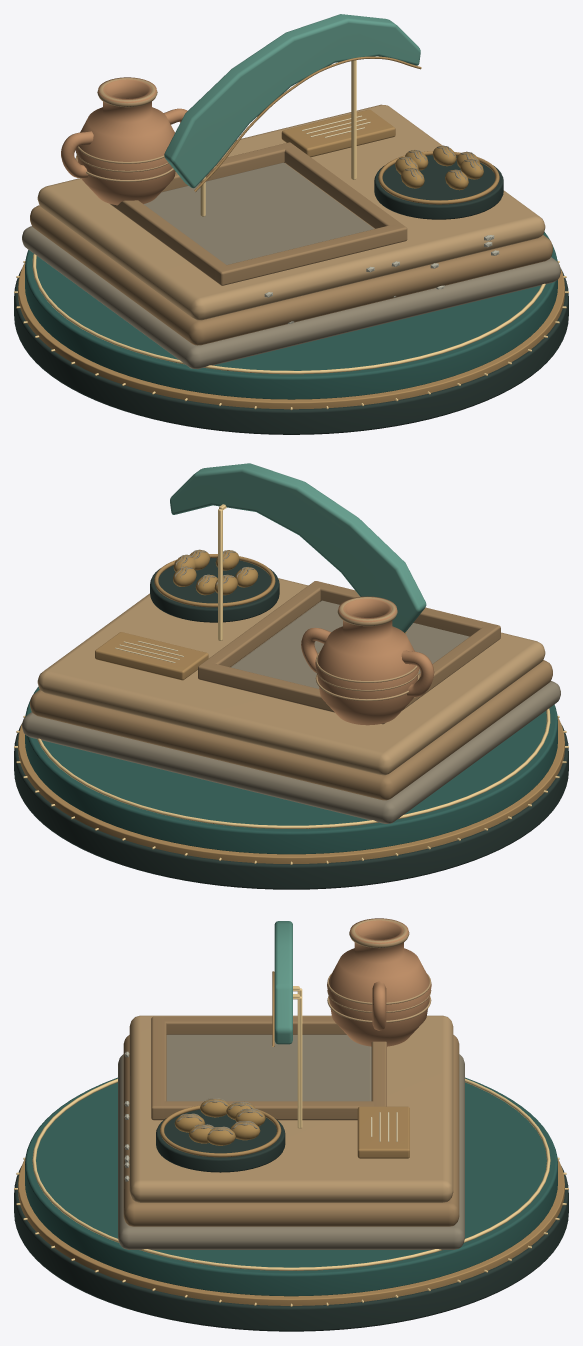
Rendered from taixi.glb.
3 renders of one model, top to bottom at view 1: azimuth 30°, elevation 25°; view 2: azimuth 150°, elevation 25°; view 3: azimuth 270°, elevation 25°, orthographic.
Parts seen in each view (by area): view 1: architecture__深墨玉 · polished jade.004, soil_upper, architecture__玄色石.004, artifact_blade__铜绿, soil_middle, soil_lower, soil_upper__灰土层, soil_upper__黄褐土, architecture__旧黄铜.004, artifact_pot__陶器, artifact_seeds__玄色石, architecture__暖金镶线.004 (+4 smaller); view 2: soil_upper, architecture__深墨玉 · polished jade.004, architecture__玄色石.004, soil_middle, artifact_blade__铜绿, soil_lower, artifact_pot__陶器, architecture__旧黄铜.004, soil_upper__黄褐土, soil_upper__灰土层, artifact_seeds__玄色石, architecture__暖金镶线.004 (+3 smaller); view 3: architecture__深墨玉 · polished jade.004, soil_upper, architecture__玄色石.004, soil_upper__灰土层, soil_lower, soil_middle, architecture__旧黄铜.004, artifact_pot__陶器, soil_upper__黄褐土, architecture__暖金镶线.004, artifact_seeds__玄色石, artifact_seeds__桃核 (+4 smaller).
Part boxes in pixels (box(x1,y1,x2,y2)): architecture__深墨玉 · polished jade.004: box(25, 232, 557, 399); soil_upper: box(37, 104, 545, 320); architecture__玄色石.004: box(14, 269, 568, 434); artifact_blade__铜绿: box(164, 14, 420, 188); soil_middle: box(30, 205, 552, 345); soil_lower: box(22, 226, 560, 369); soil_upper__灰土层: box(144, 162, 374, 264); soil_upper__黄褐土: box(110, 142, 407, 285); architecture__旧黄铜.004: box(18, 109, 564, 409); artifact_pot__陶器: box(61, 77, 187, 205); artifact_seeds__玄色石: box(374, 155, 503, 219); architecture__暖金镶线.004: box(14, 60, 568, 410); soil_upper: box(37, 578, 545, 775); architecture__深墨玉 · polished jade.004: box(25, 686, 557, 854); architecture__玄色石.004: box(14, 724, 568, 889); soil_middle: box(30, 660, 552, 800); artifact_blade__铜绿: box(170, 463, 426, 632); soil_lower: box(22, 681, 560, 823); artifact_pot__陶器: box(301, 596, 434, 725); architecture__旧黄铜.004: box(18, 632, 564, 863); soil_upper__黄褐土: box(198, 581, 500, 724); soil_upper__灰土层: box(231, 600, 469, 688); artifact_seeds__玄色石: box(150, 558, 279, 622); architecture__暖金镶线.004: box(14, 504, 568, 864); architecture__深墨玉 · polished jade.004: box(25, 1077, 557, 1296); soil_upper: box(129, 1015, 453, 1202); architecture__玄色石.004: box(14, 1166, 568, 1331); soil_upper__灰土层: box(166, 1034, 371, 1101); soil_lower: box(118, 1054, 464, 1249); soil_middle: box(123, 1035, 459, 1226); architecture__旧黄铜.004: box(18, 1106, 564, 1305); artifact_pot__陶器: box(327, 918, 431, 1046); soil_upper__黄褐土: box(151, 1016, 386, 1120); architecture__暖金镶线.004: box(14, 986, 568, 1306); artifact_seeds__玄色石: box(156, 1109, 285, 1172); artifact_seeds__桃核: box(174, 1099, 265, 1145).
Size of the model in its own units: 3.6 by 2.1 by 3.6.
